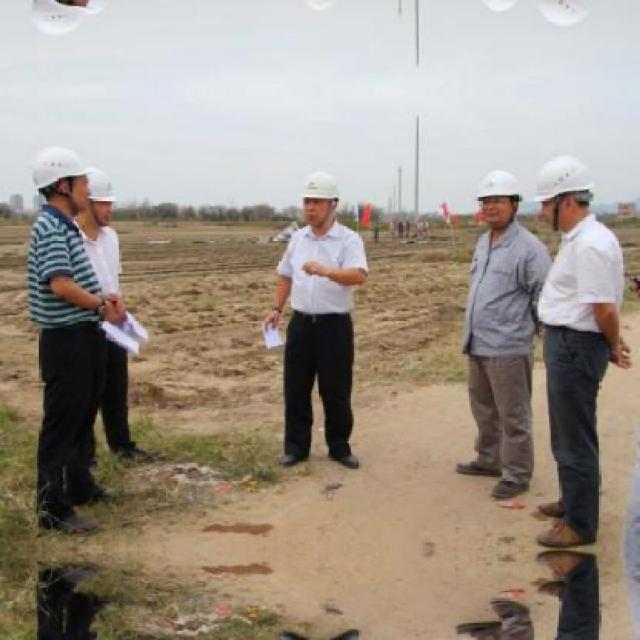helmet: (529, 150, 597, 232), (28, 140, 100, 215), (470, 163, 528, 228), (297, 163, 346, 229), (78, 158, 122, 228), (28, 0, 102, 40), (528, 0, 597, 31), (471, 0, 529, 17), (77, 0, 121, 22), (296, 0, 346, 17)
